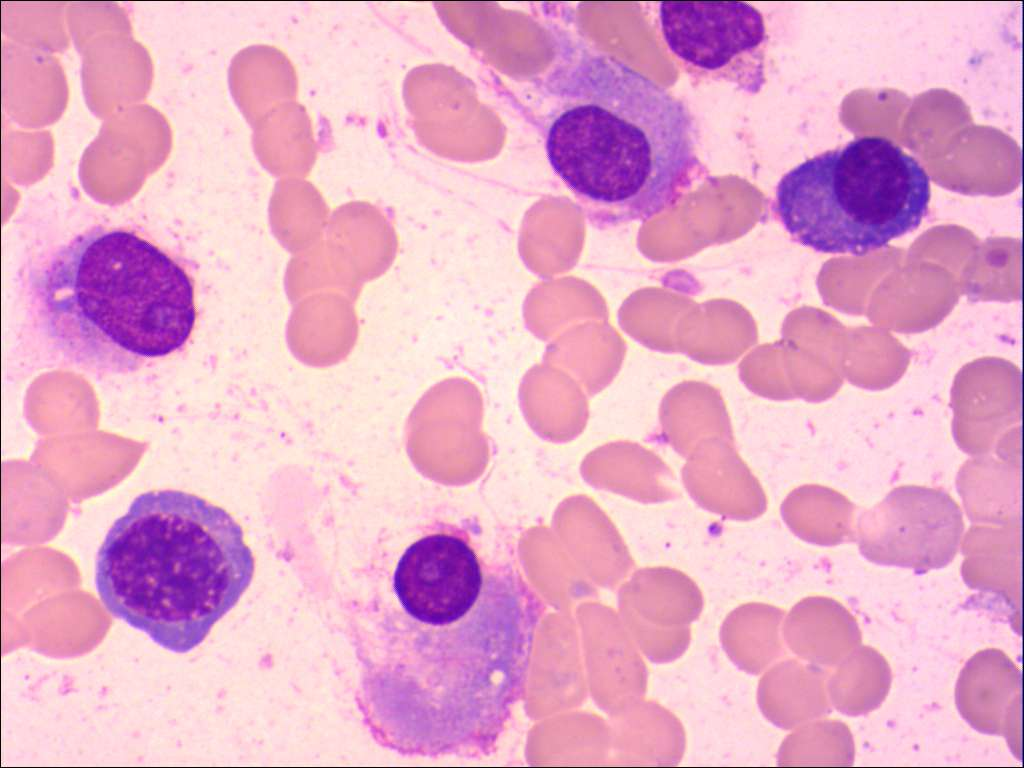23: (92, 486, 259, 657)
51: (344, 519, 545, 762), (518, 51, 707, 233), (774, 132, 934, 257)
x: (39, 222, 203, 385), (650, 1, 776, 97)
